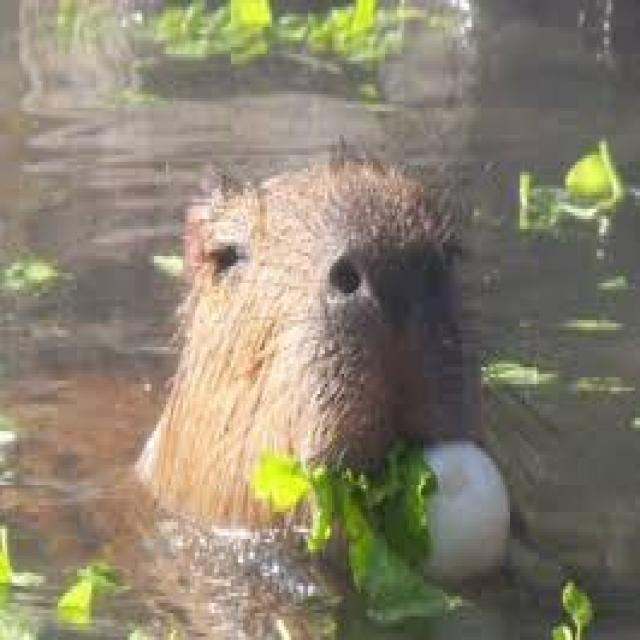capy: (144, 140, 471, 541)
